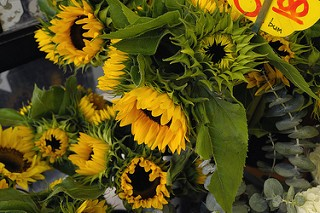flower: (112, 84, 209, 156), (47, 0, 115, 76), (0, 115, 54, 196), (115, 155, 172, 209)
